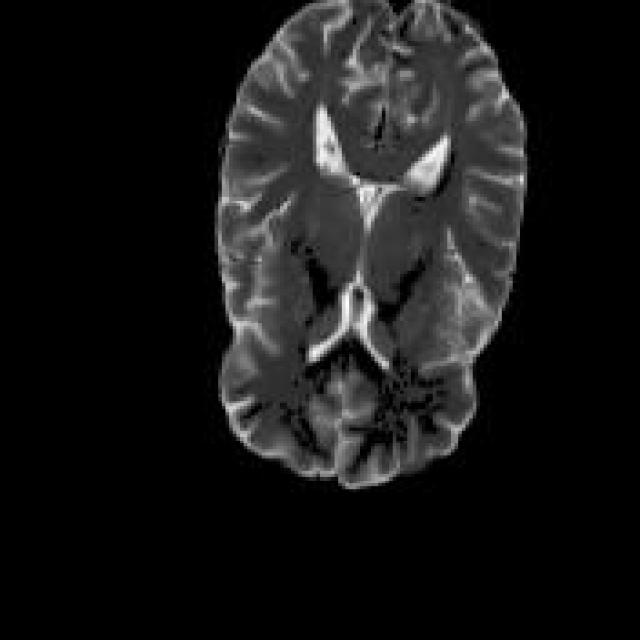parkinson: (211, 0, 531, 489)
